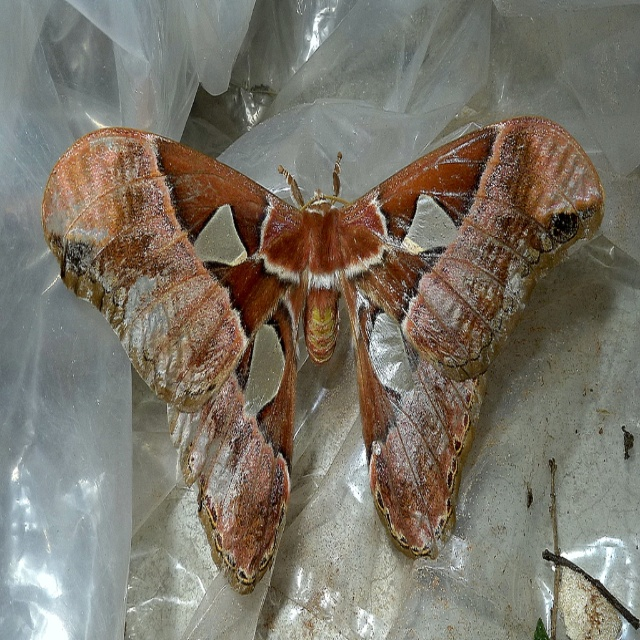Moths and butterflies: (44, 109, 608, 596)
